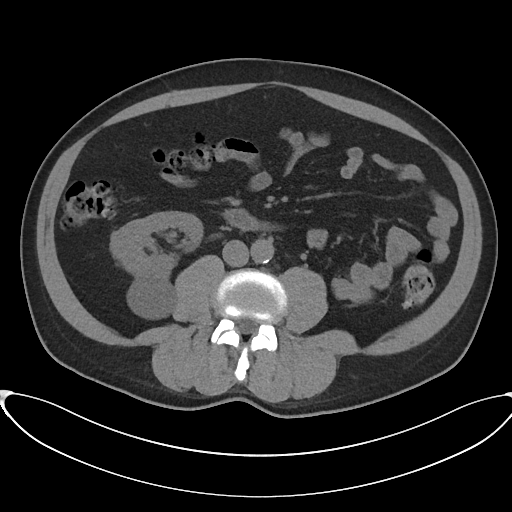Lesion: (125, 273, 179, 318)
